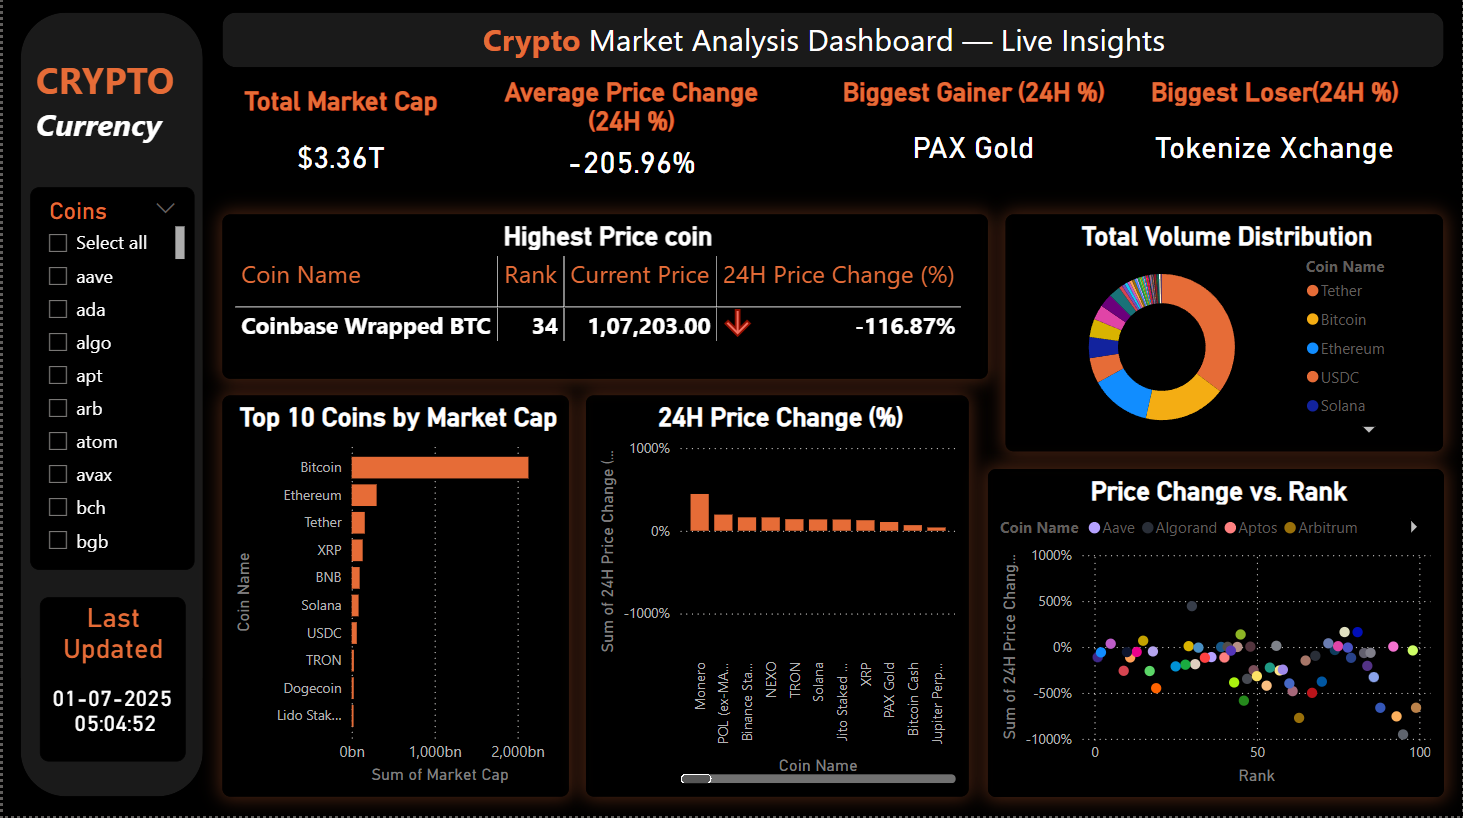

What the dashboard file says about the page in this screenshot:
{"tool":"powerbi","page":{"name":"Page 1","canvas":[1280,720],"ordinal":0},"visuals":[{"type":"shape","box":[16,16,160,688],"z":0},{"type":"shape","title":"Crypto Market Analysis Dashboard — Live Insights","box":[192,16,1072,48],"z":1000},{"type":"textbox","box":[192,16,1056,48],"z":2000},{"type":"clusteredBarChart","title":"Top 10 Coins by Market Cap","fields":{"Category":["cryptocurrency.Coin Name"],"Y":["Sum(cryptocurrency.Market Cap)"]},"box":[192,352,304,352],"z":3000},{"type":"columnChart","title":"24H Price Change (%)","fields":{"Y":["Sum(cryptocurrency.24H Price Change (%))"],"Category":["cryptocurrency.Coin Name"]},"box":[512,352,336,352],"z":4000},{"type":"donutChart","title":"Total Volume Distribution","fields":{"Y":["Sum(cryptocurrency.Total Volume)"],"Category":["cryptocurrency.Coin Name"]},"box":[864,192,400,192],"z":5000},{"type":"slicer","fields":{"Values":["cryptocurrency.Symbol"]},"box":[24,168,144,336],"z":6000},{"type":"card","title":"Total Market Cap","fields":{"Values":["cryptocurrency.Market_cap"]},"box":[192,80,208,96],"z":7000},{"type":"card","title":"Average Price Change (24H %)","fields":{"Values":["cryptocurrency.Average Price Change (24H %)"]},"box":[432,72,240,96],"z":8000},{"type":"card","title":"Biggest Gainer (24H %)","fields":{"Values":["Min(cryptocurrency.Coin Name)"]},"box":[720,72,264,96],"z":9000},{"type":"card","title":"Last Updated","fields":{"Values":["Min(cryptocurrency.Last Updated)"]},"box":[32,528,128,144],"z":10000},{"type":"tableEx","title":"Highest Price coin","fields":{"Values":["cryptocurrency.Coin Name","cryptocurrency.Rank","cryptocurrency.Current Price","cryptocurrency.24H Price Change (%)"]},"box":[192,192,656,144],"z":11000},{"type":"lineChart","title":"Price Change vs. Rank","fields":{"Category":["cryptocurrency.Rank"],"Y":["Sum(cryptocurrency.24H Price Change (%))"],"Series":["cryptocurrency.Coin Name"]},"box":[864,400,400,304],"z":12000},{"type":"card","title":"Biggest Loser(24H %)","fields":{"Values":["cryptocurrency.Biggest Loser Coin"]},"box":[984,72,264,96],"z":13000},{"type":"textbox","box":[24,48,144,96],"z":14000}]}

Visuals, with their boxes in screenshot pixels (x1, y1, x2, y2), scaled from the page's 1280x720 canvas onto the 1463x818 screenshot:
shape: l=18, t=18, r=201, b=800
"Crypto Market Analysis Dashboard — Live Insights" shape: l=219, t=18, r=1445, b=73
textbox: l=219, t=18, r=1426, b=73
"Top 10 Coins by Market Cap" clusteredBarChart: l=219, t=400, r=567, b=800
"24H Price Change (%)" columnChart: l=585, t=400, r=969, b=800
"Total Volume Distribution" donutChart: l=988, t=218, r=1445, b=436
slicer - cryptocurrency.Symbol: l=27, t=191, r=192, b=573
"Total Market Cap" card: l=219, t=91, r=457, b=200
"Average Price Change (24H %)" card: l=494, t=82, r=768, b=191
"Biggest Gainer (24H %)" card: l=823, t=82, r=1125, b=191
"Last Updated" card: l=37, t=600, r=183, b=763
"Highest Price coin" tableEx: l=219, t=218, r=969, b=382
"Price Change vs. Rank" lineChart: l=988, t=454, r=1445, b=800
"Biggest Loser(24H %)" card: l=1125, t=82, r=1426, b=191
textbox: l=27, t=55, r=192, b=164
